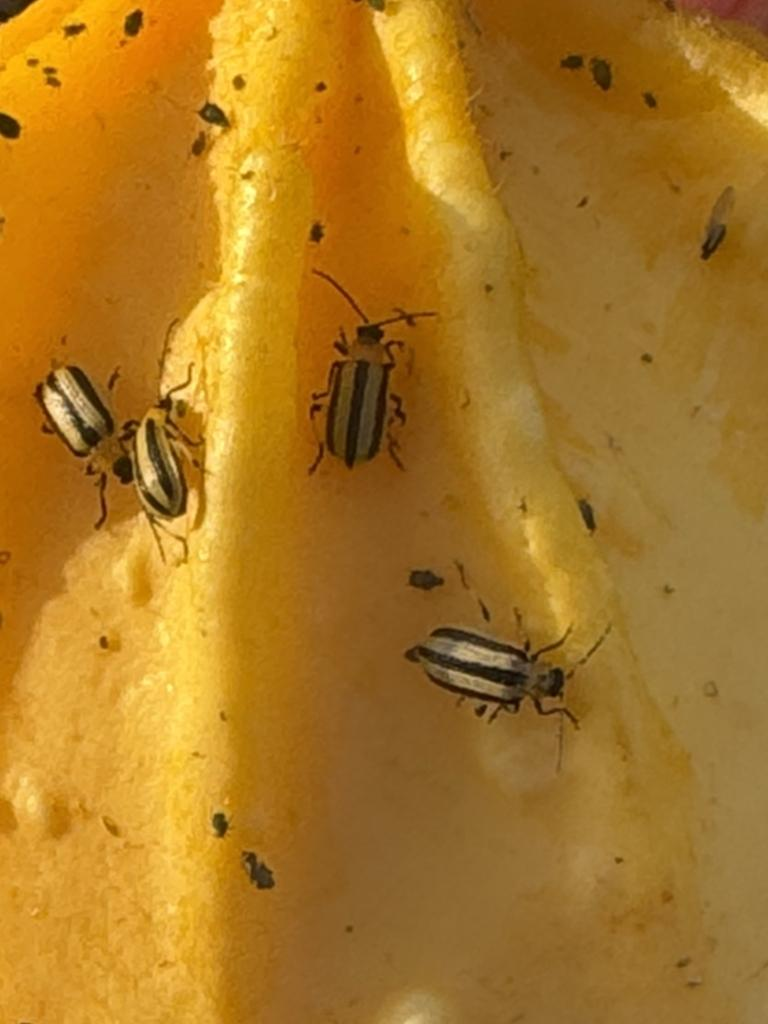potato_beetle: (377, 567, 696, 809), (271, 233, 469, 514), (99, 354, 249, 567), (16, 320, 146, 520)
